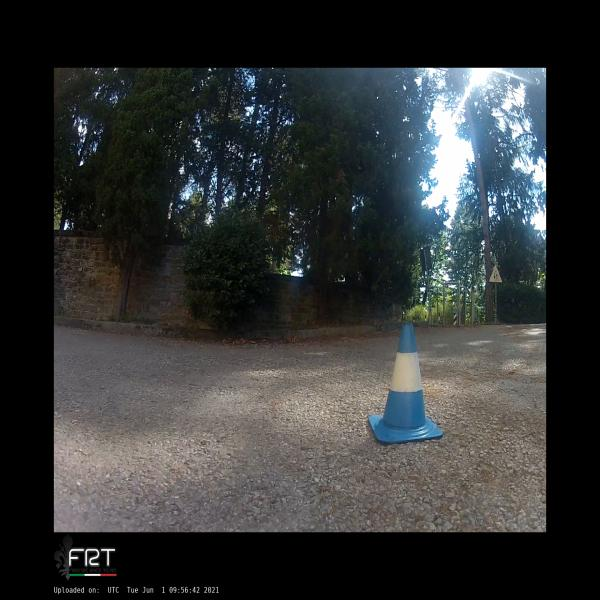blue_cone: (368, 322, 442, 442)
